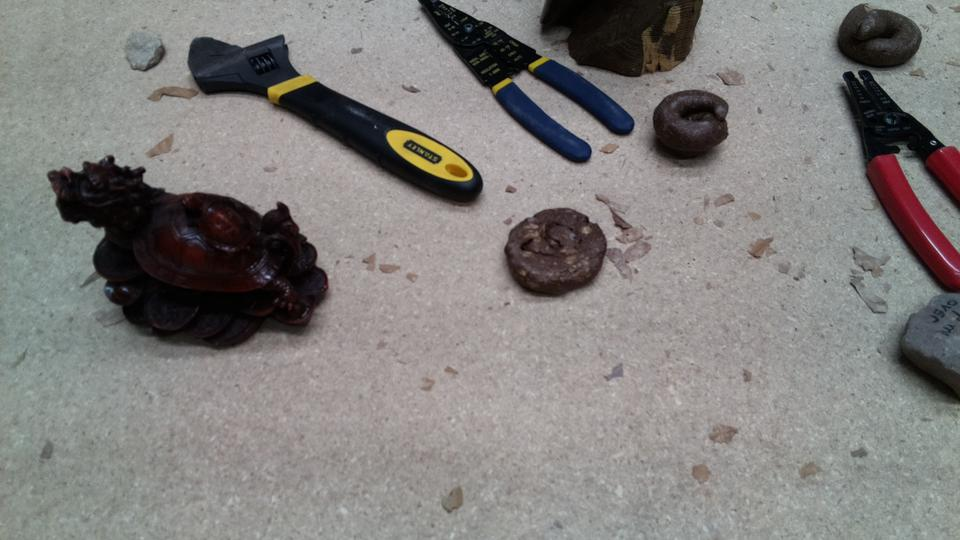poop: (498, 203, 613, 299), (650, 86, 735, 161), (836, 1, 923, 71)
